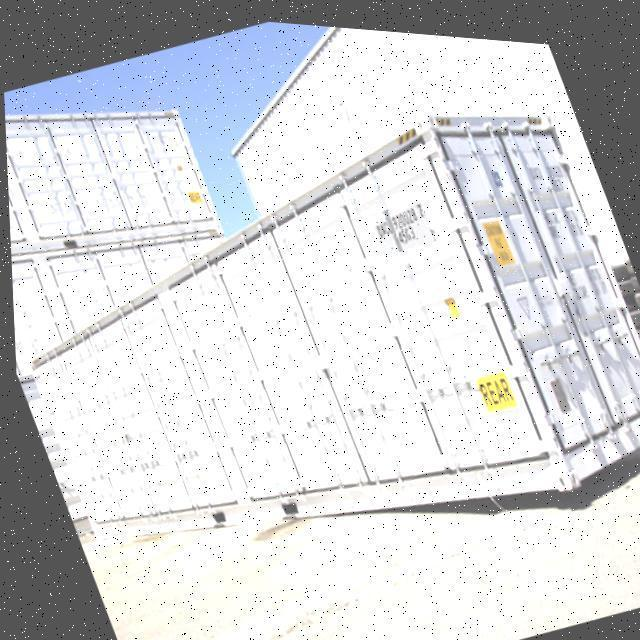container_number_h: (366, 190, 435, 253)
